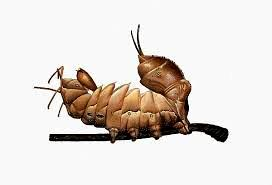Lobster Moth: (39, 46, 198, 145)
